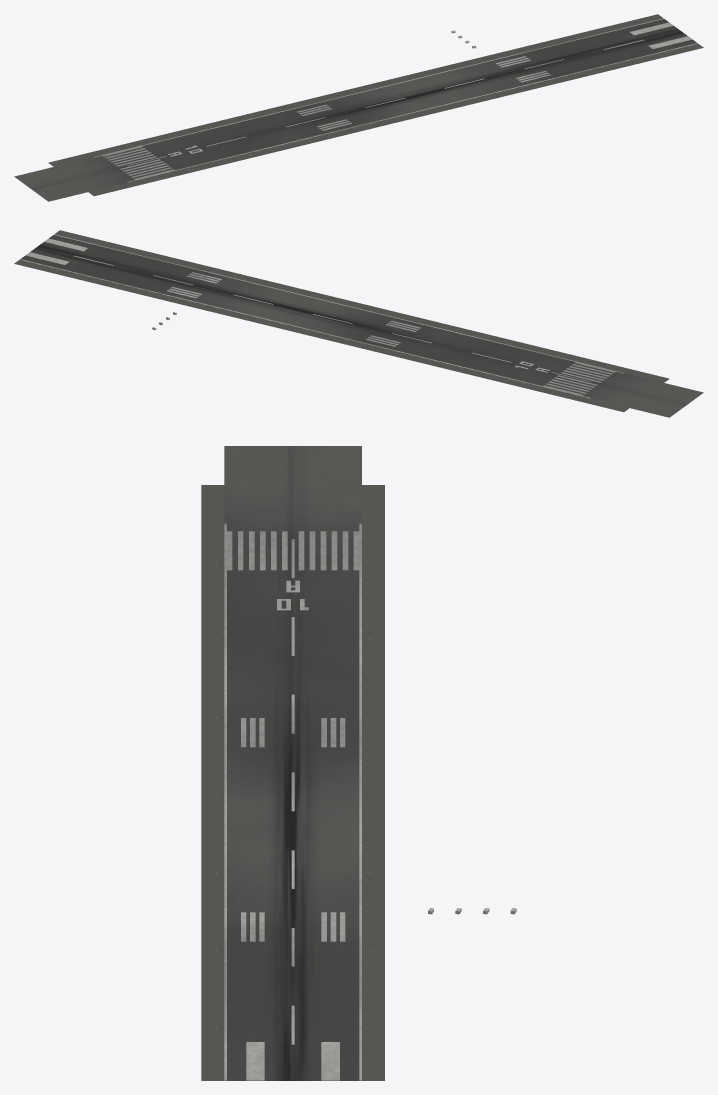
The model's file is sbgr_pista_secao.glb.
The picture shows the model from 3 angles, top to bottom: view 1: azimuth 30°, elevation 25°; view 2: azimuth 150°, elevation 25°; view 3: azimuth 270°, elevation 25°; orthographic projection. The views are drawn at different scales.
Parts seen in each view (by area): view 1: sbgr_pista_secao; view 2: sbgr_pista_secao; view 3: sbgr_pista_secao.
Part boxes in pixels (bbox=[...]): sbgr_pista_secao: bbox=[14, 14, 703, 201]; sbgr_pista_secao: bbox=[14, 230, 703, 417]; sbgr_pista_secao: bbox=[201, 446, 516, 1080].
Size of the model in its own units: 490 by 1.13 by 103.
Materials: 5 (2 with a texture image).
